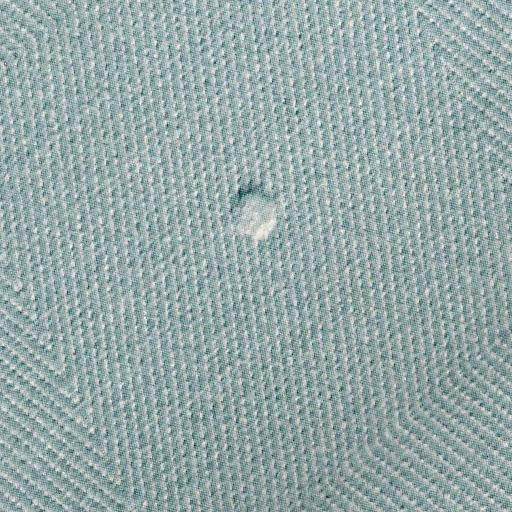knot: (215, 176, 289, 251)
